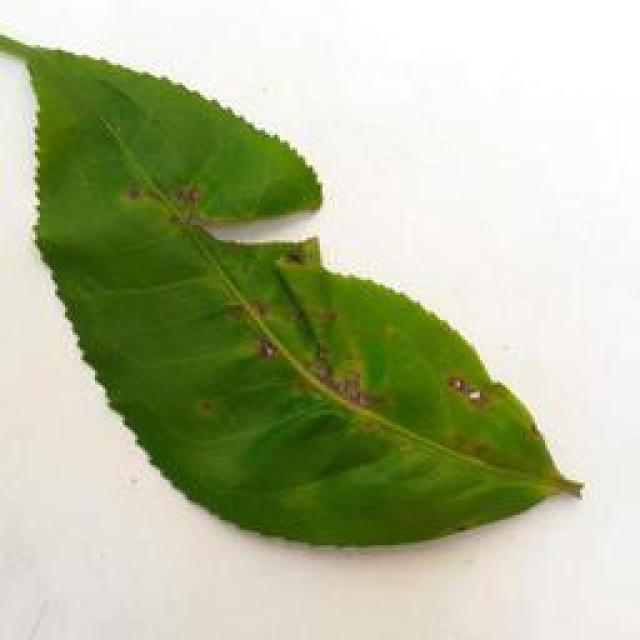Helopeltis: (4, 28, 594, 552)
